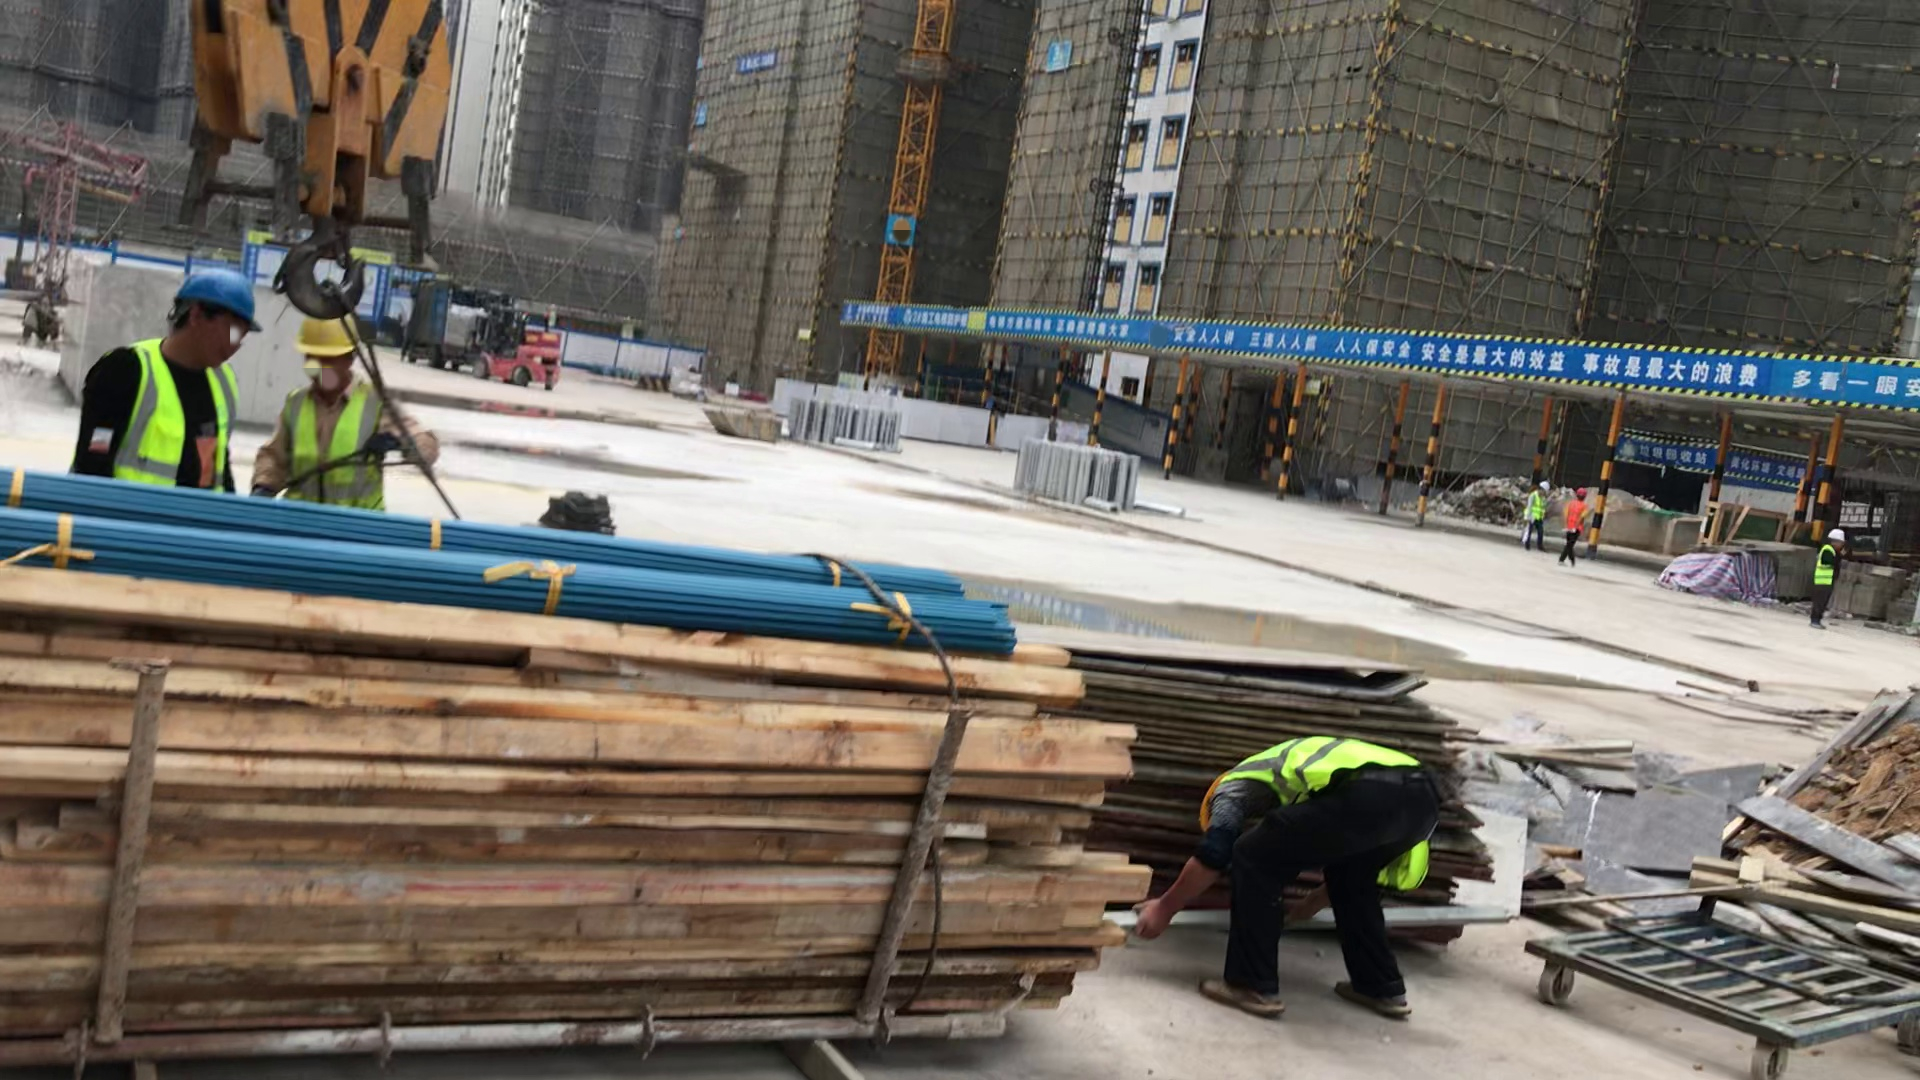board: (1034, 614, 1540, 938)
brick: (779, 369, 1110, 462)
helmet: (151, 253, 263, 351), (290, 304, 382, 379), (1826, 522, 1845, 551), (1534, 475, 1552, 495), (1575, 484, 1588, 503)
hook: (141, 3, 488, 337)
hopper: (694, 392, 787, 455)
person: (1127, 714, 1471, 1030), (54, 251, 266, 507), (263, 297, 466, 526), (1794, 510, 1851, 639), (1556, 479, 1602, 579), (1515, 462, 1552, 564)
slogan: (823, 291, 1920, 439), (1599, 426, 1834, 503), (371, 254, 434, 319), (881, 200, 929, 261), (1026, 30, 1075, 85), (729, 39, 787, 78), (690, 99, 721, 131), (688, 47, 710, 77)
vest: (1221, 722, 1449, 914), (106, 330, 252, 504), (267, 380, 410, 518), (1814, 542, 1838, 588), (1527, 489, 1549, 525), (1566, 498, 1587, 535)
wood: (1, 435, 1160, 1080)
